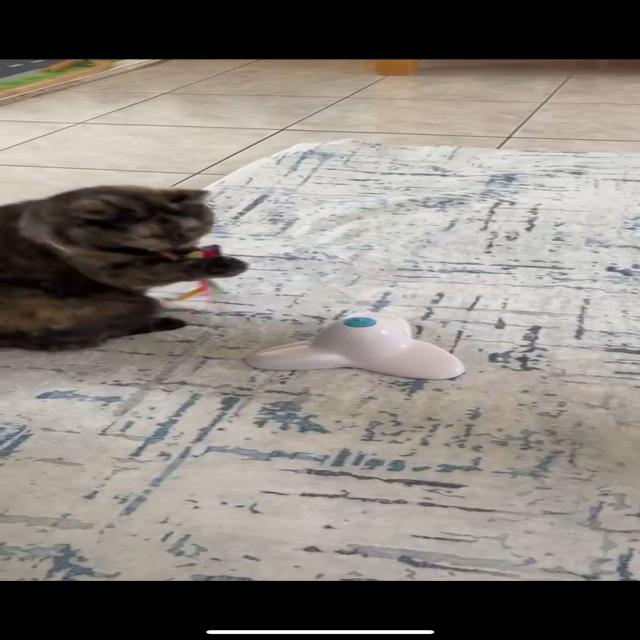authorized: (0, 184, 249, 352)
